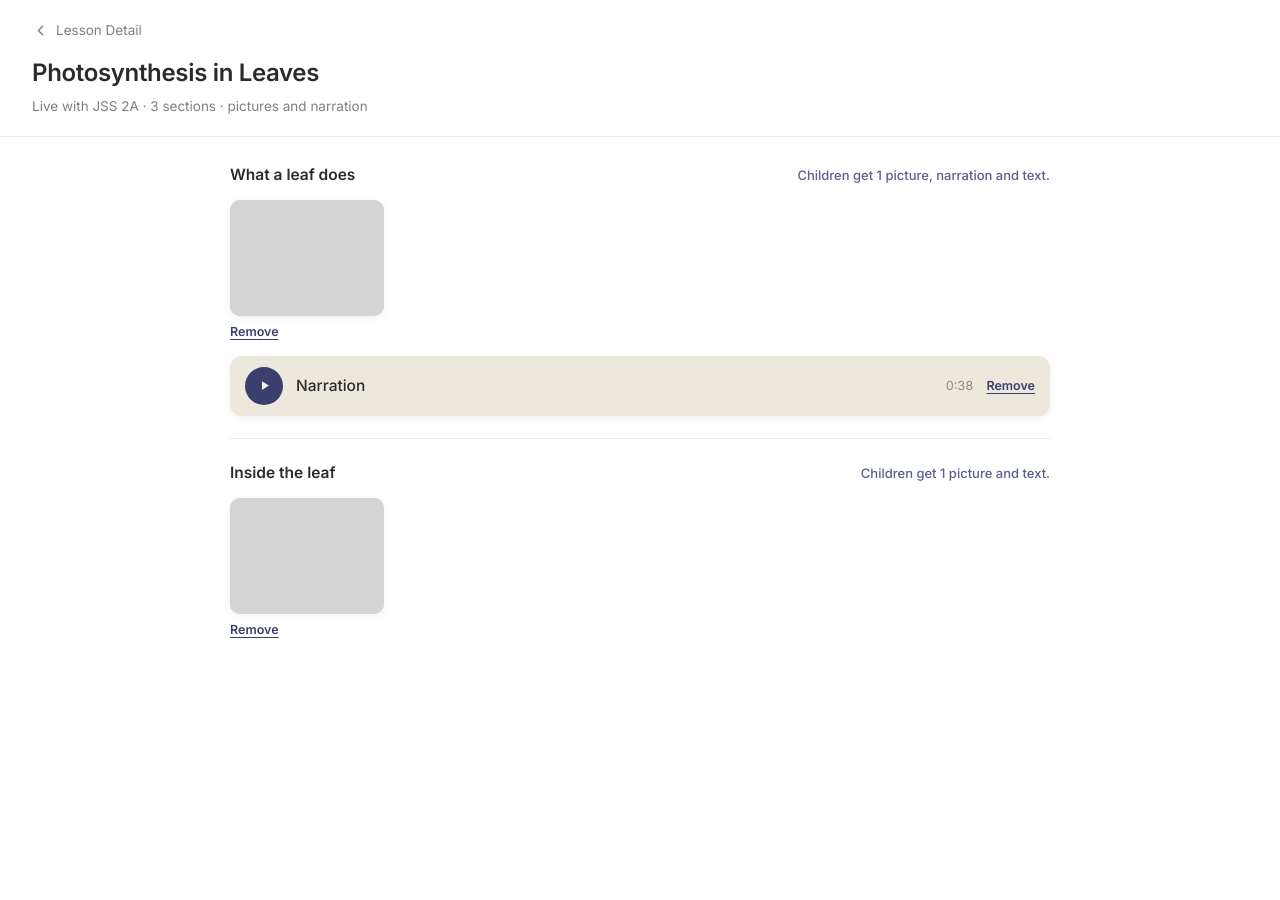
Test: pulling one › withdraws a picture by its media item, with no dialog, and says what is now true
Check: the heading "Photosynthesis in Leaves" is shown, box x1=32 y1=58 x2=319 y2=87
Step 1. Click the button with aria-label "Remove the picture from What a leaf does" → (254, 332), box x1=230 y1=323 x2=278 y2=342
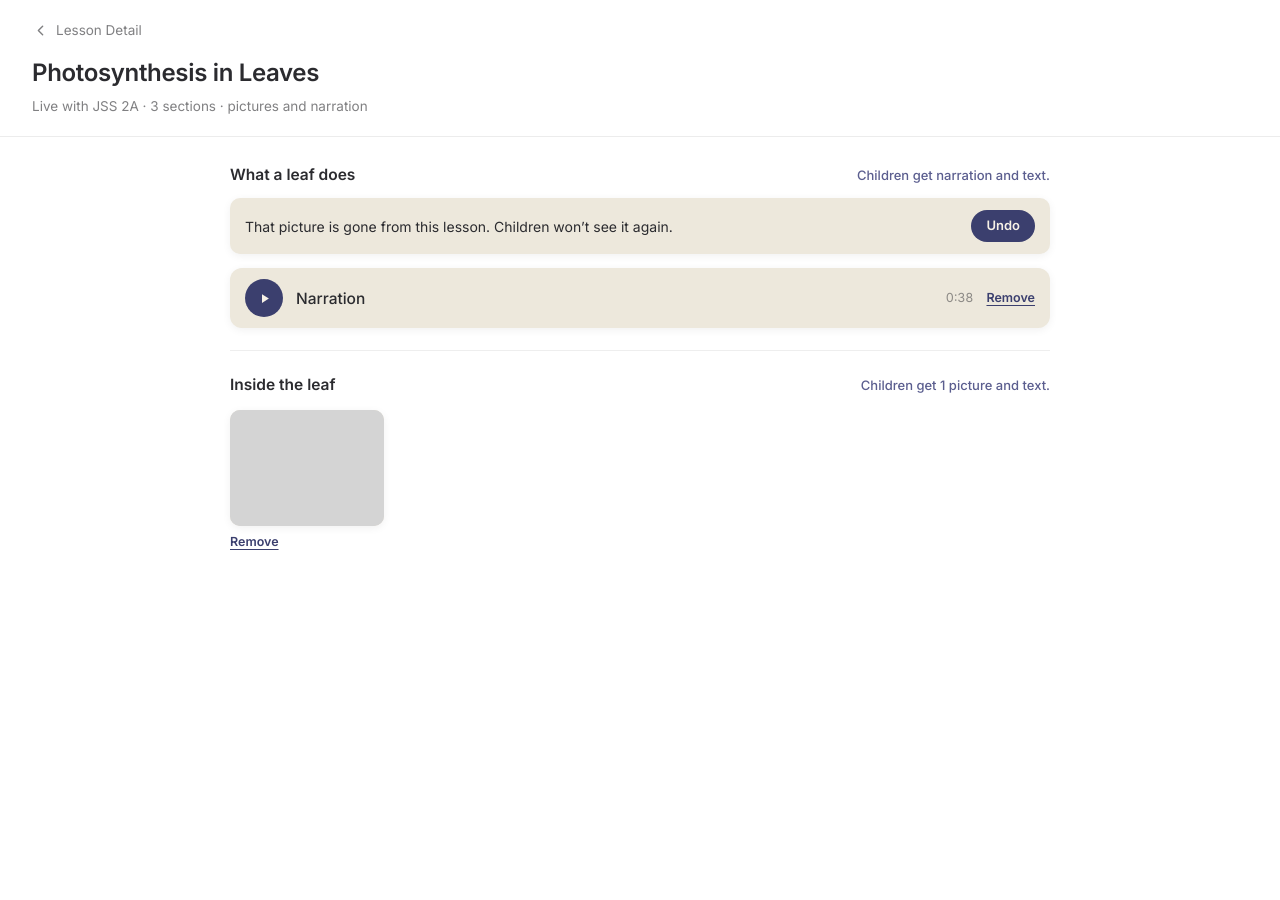
Check: the text "That picture is gone from this lesson. Children won’t see it again." is shown, box x1=245 y1=218 x2=673 y2=235
Check: the text "Children get narration and text." is shown, box x1=857 y1=166 x2=1050 y2=185
Check: the button "Undo" is shown, box x1=971 y1=210 x2=1035 y2=242
